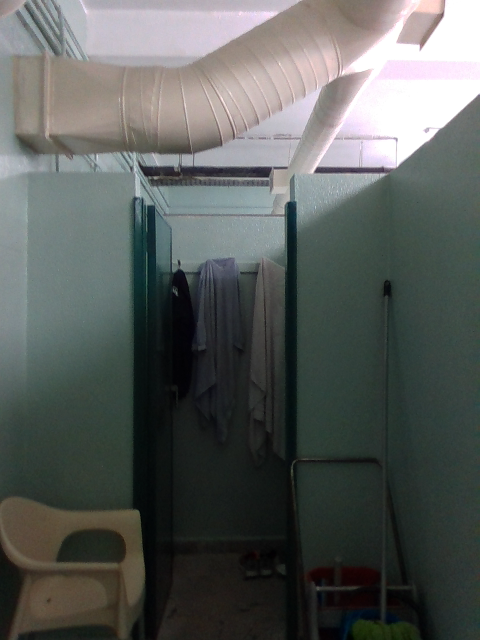open: (137, 203, 174, 625)
